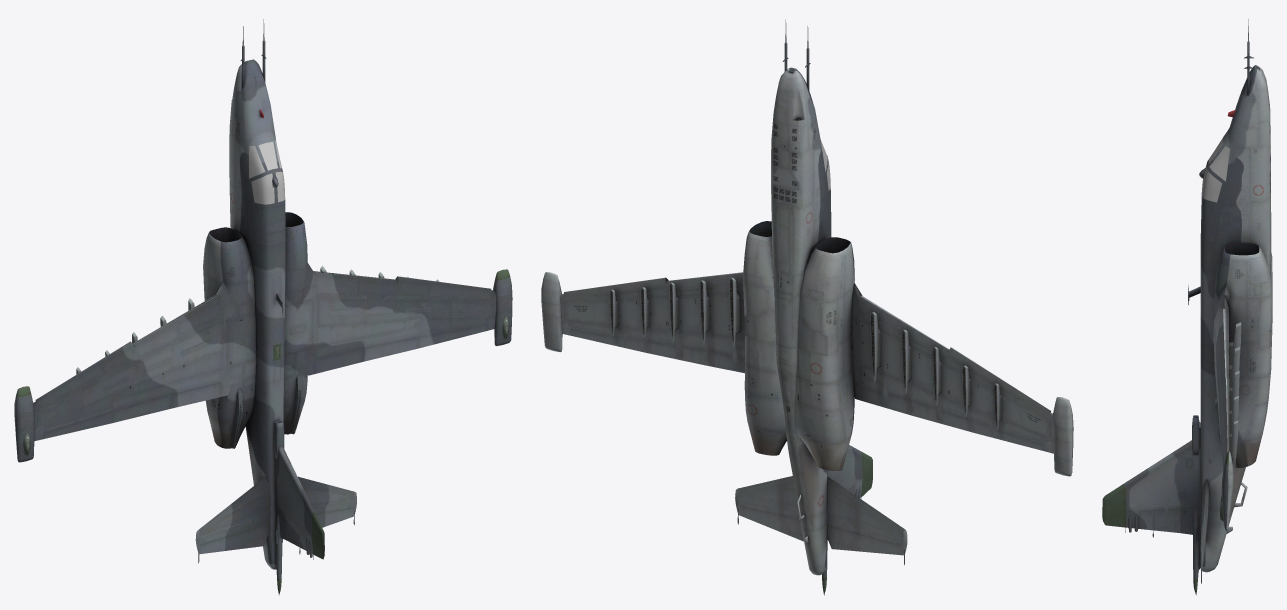
File: Su-39_Frogfoot.obj
3 renders of one model, left to right at view 1: azimuth 30°, elevation 25°; view 2: azimuth 150°, elevation 25°; view 3: azimuth 270°, elevation 25°, orthographic. The views are drawn at different scales.
Visible parts, largest first — view 1: LOD0, VoletL01, VoletR01, BrakeL02, BrakeR02, Canopy01, ElevatorL01, FlapL01, Glass_Canopy01, FlapR01, Glass01, FlapL02 (+3 smaller); view 2: LOD0, VoletL01, VoletR01, ElevatorL01, ElevatorR01, FlapR01, FlapL01, FlapL02, AileronR01, AileronL01; view 3: LOD0, VoletR01, RudderL01, Canopy01, Glass01, Glass_Canopy01.
Boxes of the visible parts, box(x1,y1,x2,y2) form: LOD0: box(14, 19, 512, 595); VoletL01: box(35, 294, 222, 407); VoletR01: box(313, 271, 491, 297); BrakeL02: box(113, 359, 221, 410); BrakeR02: box(316, 325, 419, 358); Canopy01: box(249, 170, 285, 245); ElevatorL01: box(199, 522, 267, 554); FlapL01: box(112, 394, 172, 422); Glass_Canopy01: box(251, 171, 285, 204); FlapR01: box(361, 336, 419, 361); Glass01: box(249, 140, 282, 178); FlapL02: box(171, 382, 220, 408); LOD0: box(541, 19, 1073, 595); VoletL01: box(858, 295, 1050, 417); VoletR01: box(564, 272, 743, 300); ElevatorL01: box(827, 523, 903, 555); ElevatorR01: box(738, 505, 803, 541); FlapR01: box(644, 339, 708, 365); FlapL01: box(911, 399, 973, 432); FlapL02: box(861, 385, 912, 415); AileronR01: box(571, 328, 645, 352); AileronL01: box(972, 419, 1045, 451); LOD0: box(1102, 19, 1272, 595); VoletR01: box(1215, 309, 1229, 464); RudderL01: box(1139, 508, 1180, 532); Canopy01: box(1199, 161, 1225, 242); Glass01: box(1208, 137, 1229, 181); Glass_Canopy01: box(1201, 163, 1221, 202).
Size of the model in its own units: 15.23 by 16.44 by 4.4.
